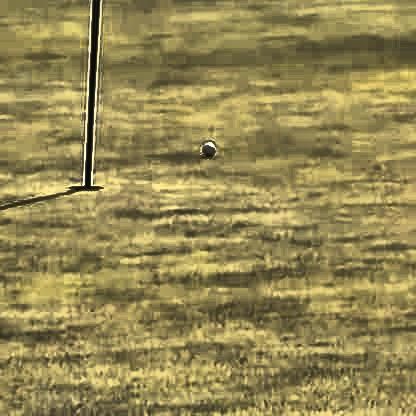golfball: (201, 137, 212, 153)
